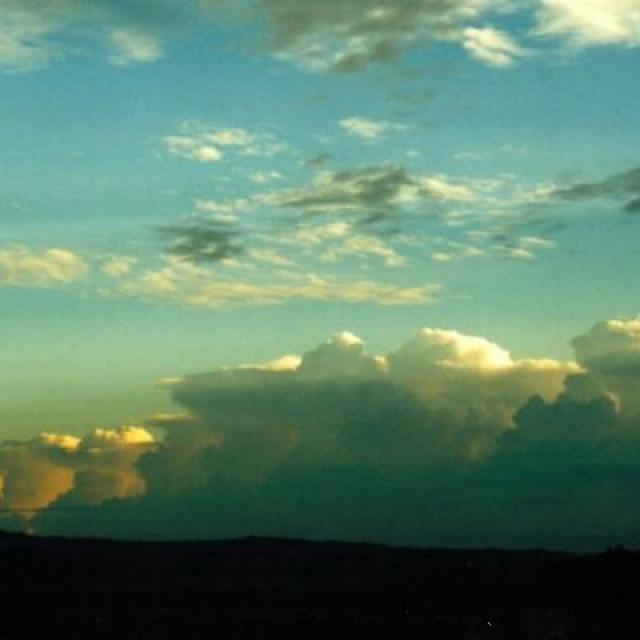Cu: (1, 231, 640, 524)
